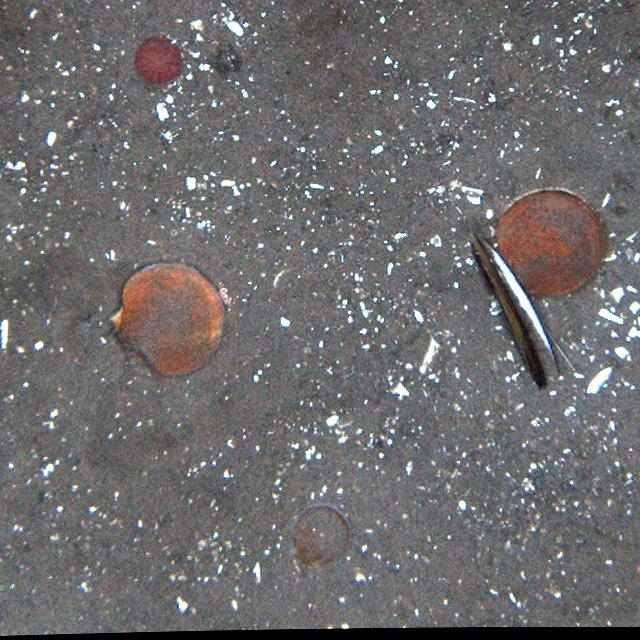scallop: (487, 184, 609, 300), (113, 264, 234, 374)
